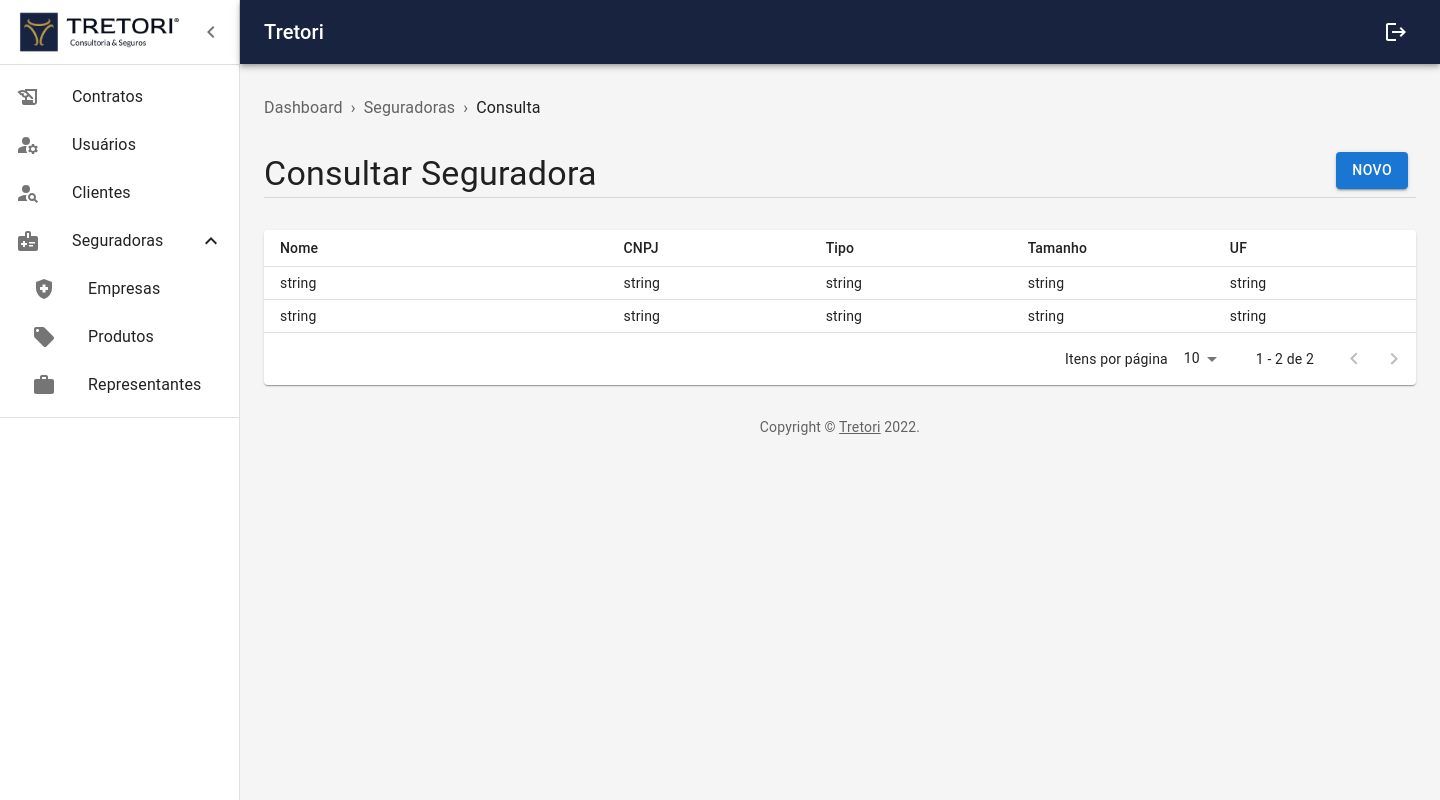
Test case: Insurance Page › should delete an existing insurance
Click the cell with id "0-fantasy_name".
click(436, 284)  # box [264,267,608,300]
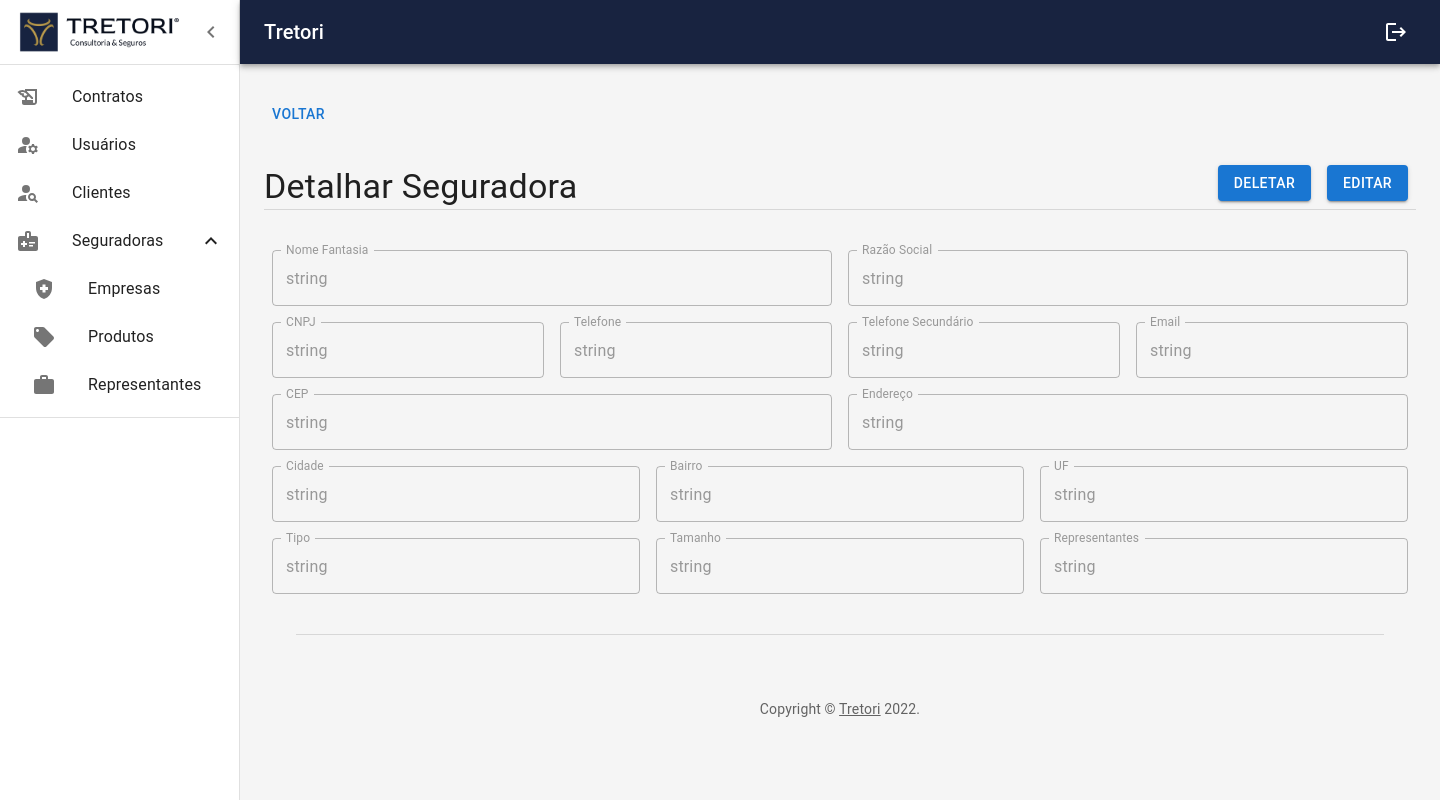
Click the button with id "deleteBtn".
click(1265, 184)  # box [1218,165,1311,202]
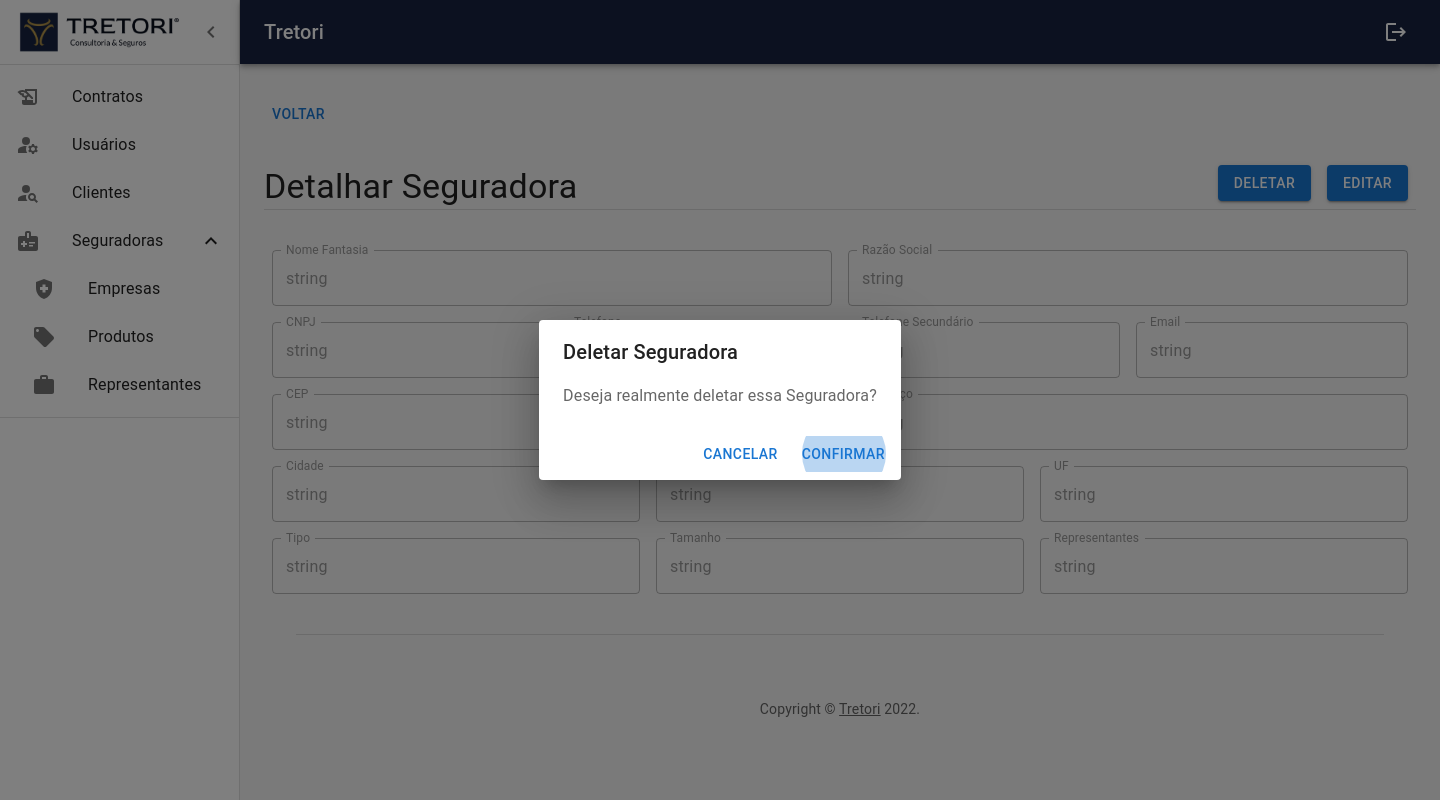
Click the button with id "dialog-confirm-btn".
click(844, 455)  # box [794,436,893,473]
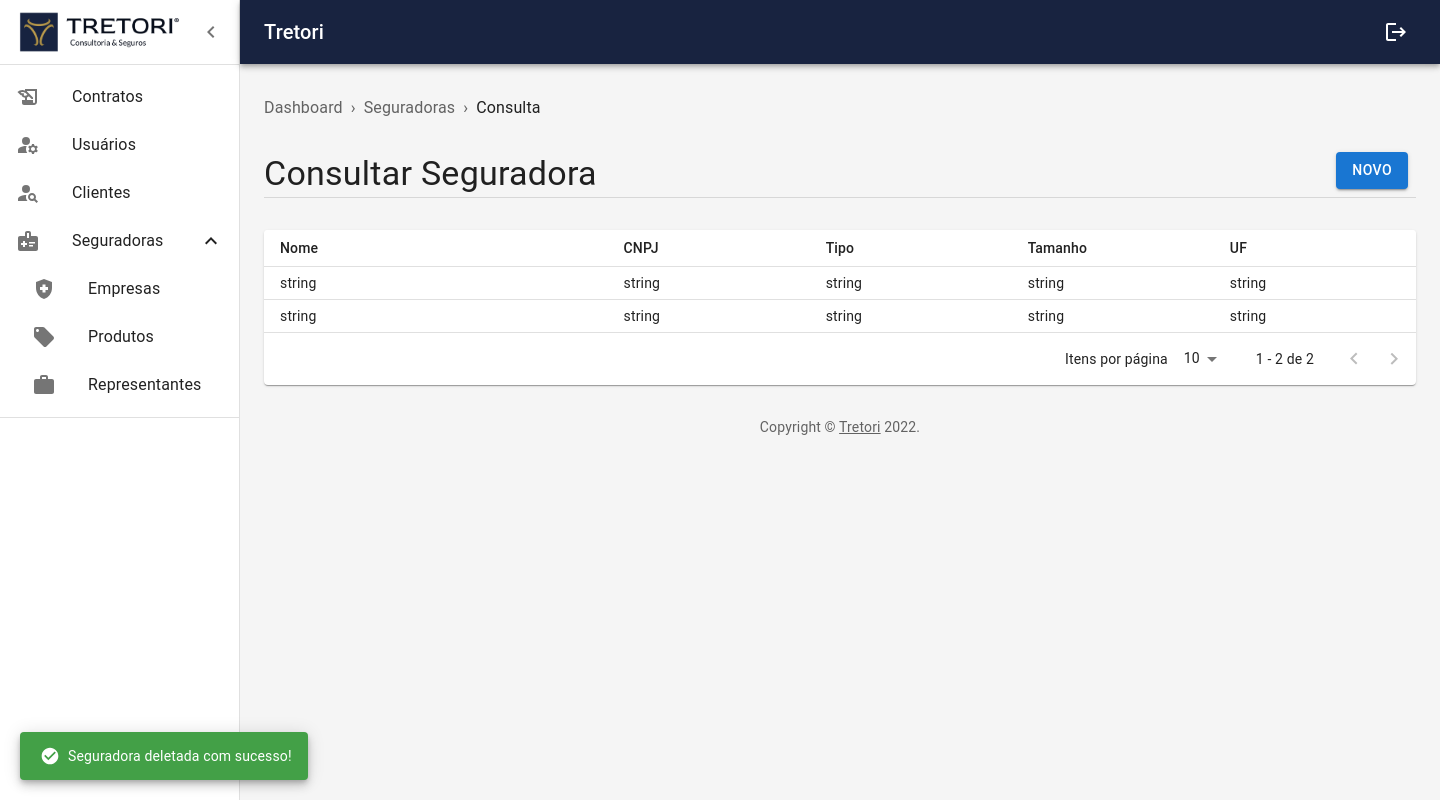
Check: the element with id "notistack-snackbar" reads "Seguradora deletada com sucesso!", box [40,746,292,766]
